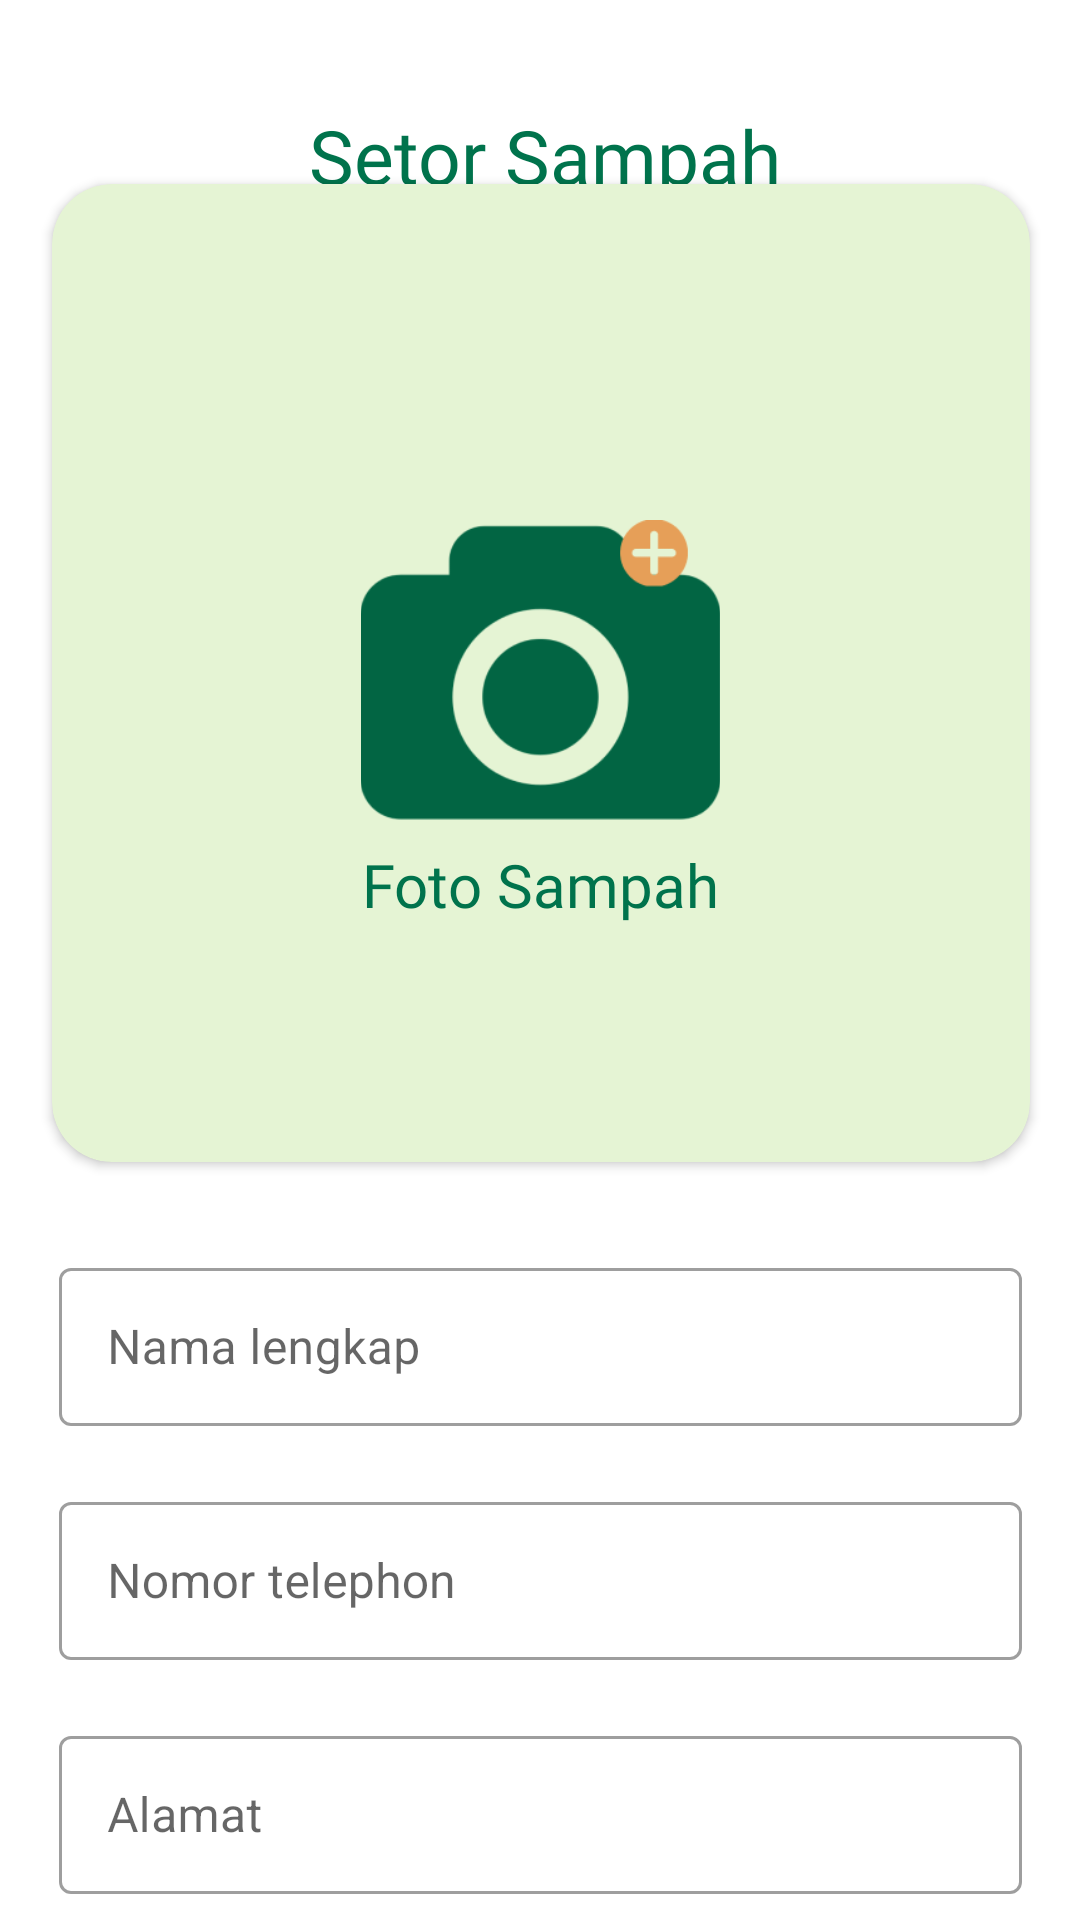

Where to tap for icons on this 1080px x 1920px app screen, as (x=x, y=y):
up kamera: (x=540, y=670)
